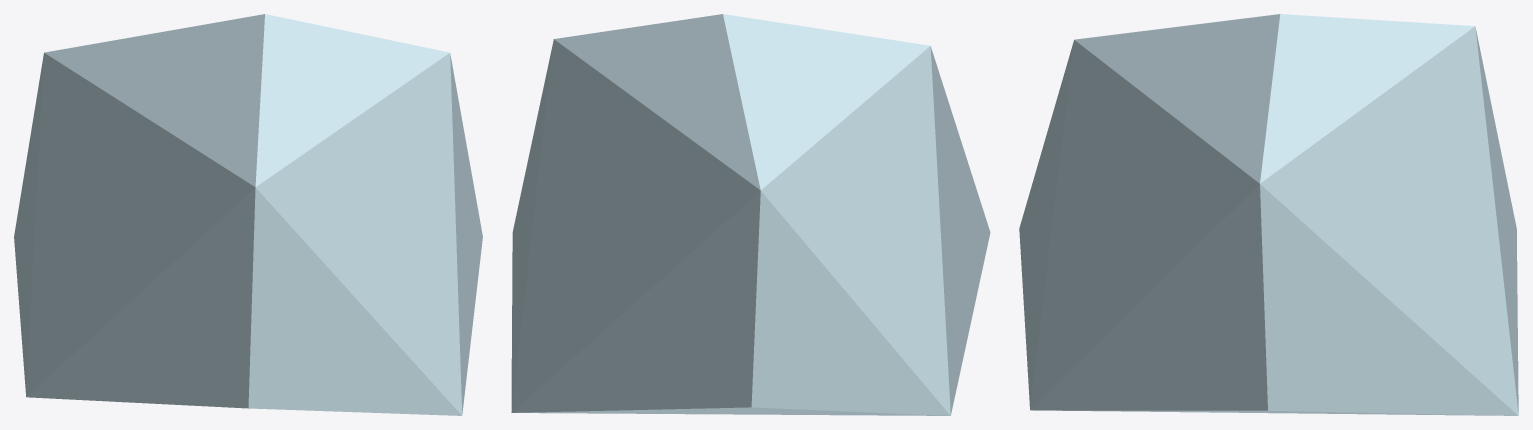
File: SM_Env_Generic_Bush_03_Snow.fbx
3 views of the same model, side by side, from view 1: azimuth 30°, elevation 25°; view 2: azimuth 150°, elevation 25°; view 3: azimuth 270°, elevation 25° (orthographic). The views are drawn at different scales.
Parts seen in each view (by area): view 1: SM_Env_Generic_Bush_03_Snow; view 2: SM_Env_Generic_Bush_03_Snow; view 3: SM_Env_Generic_Bush_03_Snow.
Boxes of the visible parts, x1,y1,x2,y2 form: SM_Env_Generic_Bush_03_Snow: [14, 14, 482, 415]; SM_Env_Generic_Bush_03_Snow: [511, 14, 990, 415]; SM_Env_Generic_Bush_03_Snow: [1019, 14, 1518, 415].
Size of the model in its own units: 35.82 by 25.86 by 32.93.
Materials: 1 (1 with a texture image).
